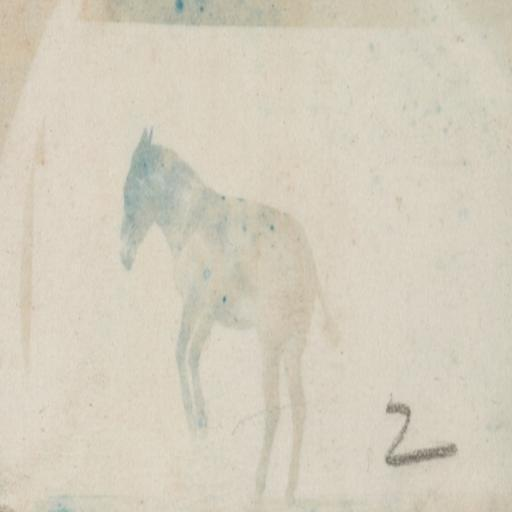horse: (120, 128, 332, 506)
